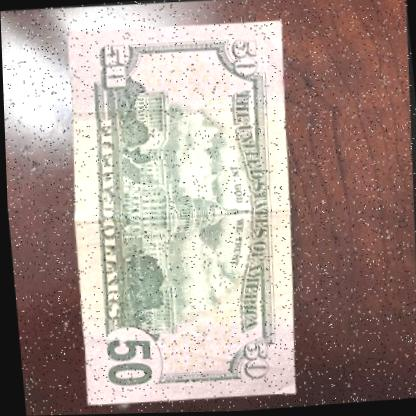fifty-back: (53, 16, 311, 409)
